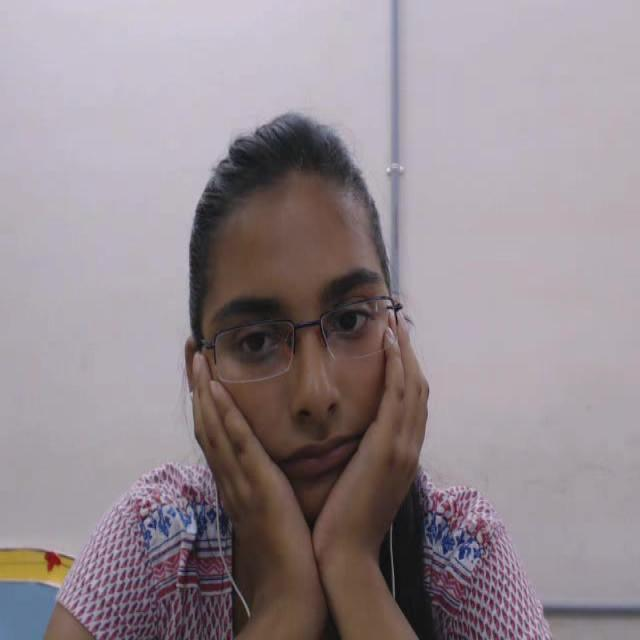Bored: (137, 99, 470, 572)
